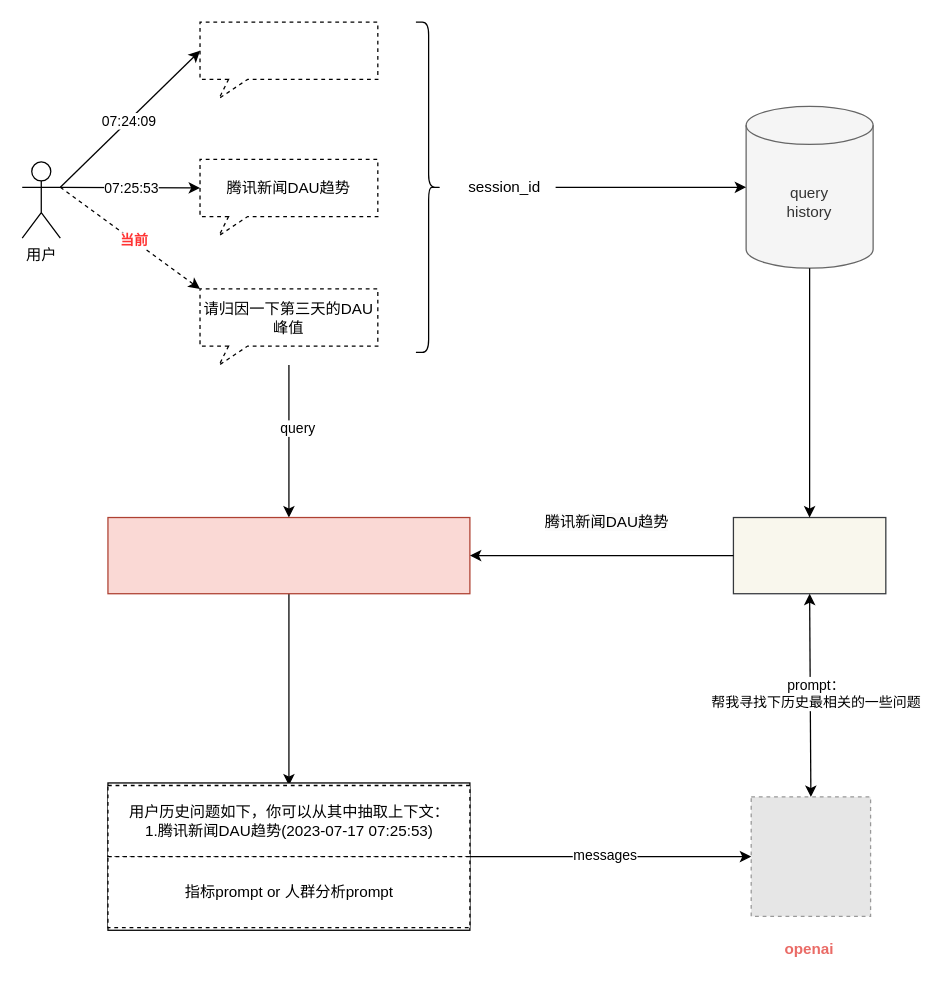
Image size: 942x991. Some labels were removed from this diagram. Grey dashed boxes stand in for pictures. Here are the shapes that lost their labels. From the top down, the centre of each, then its label:
At [288,59]: "看看腾讯新闻昨天视频ctr最高的5个业务场景".
At [288,555]: "CHAT".
At [809,555]: "recall".
